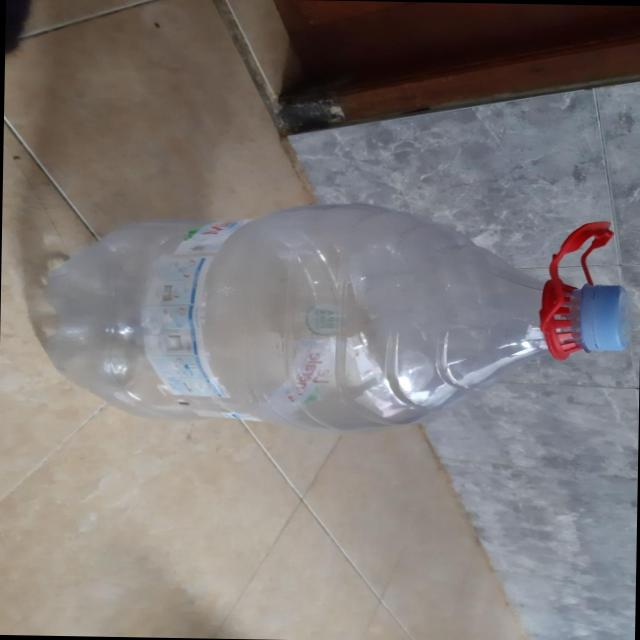Galon: (34, 195, 632, 439)
